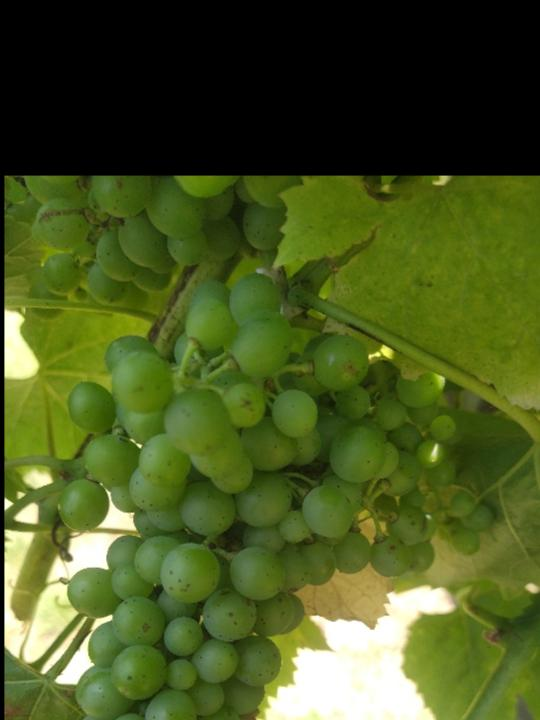grape: (55, 271, 496, 720)
